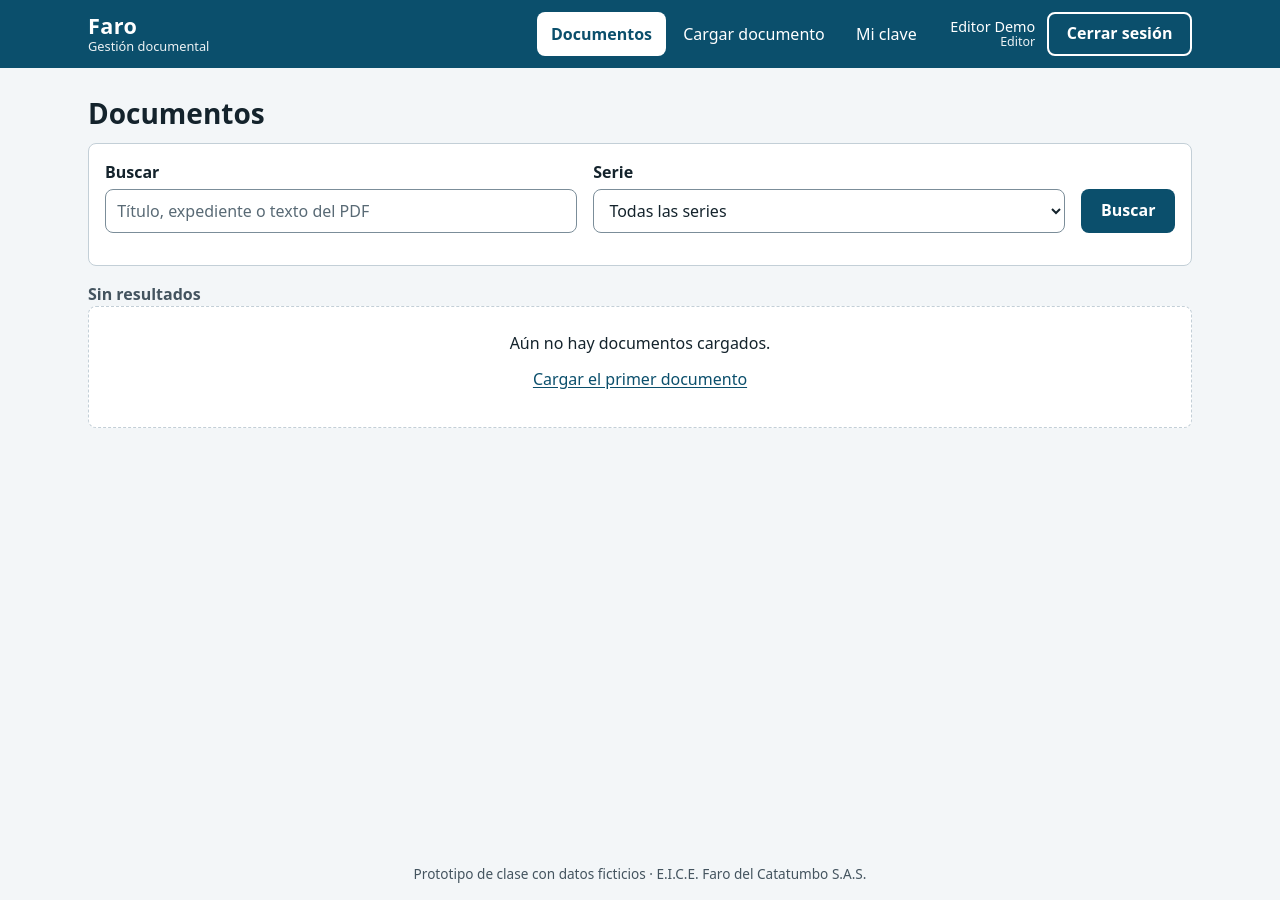
Test case: cambiar mi clave (voluntario) › se abre desde «Mi clave» del menú y explica qué pasa con las demás sesiones
expect the heading "Documentos" is shown: met, box x1=88 y1=94 x2=265 y2=132
Click the link "Mi clave" at x=886, y=34, box x1=856 y1=23 x2=917 y2=45
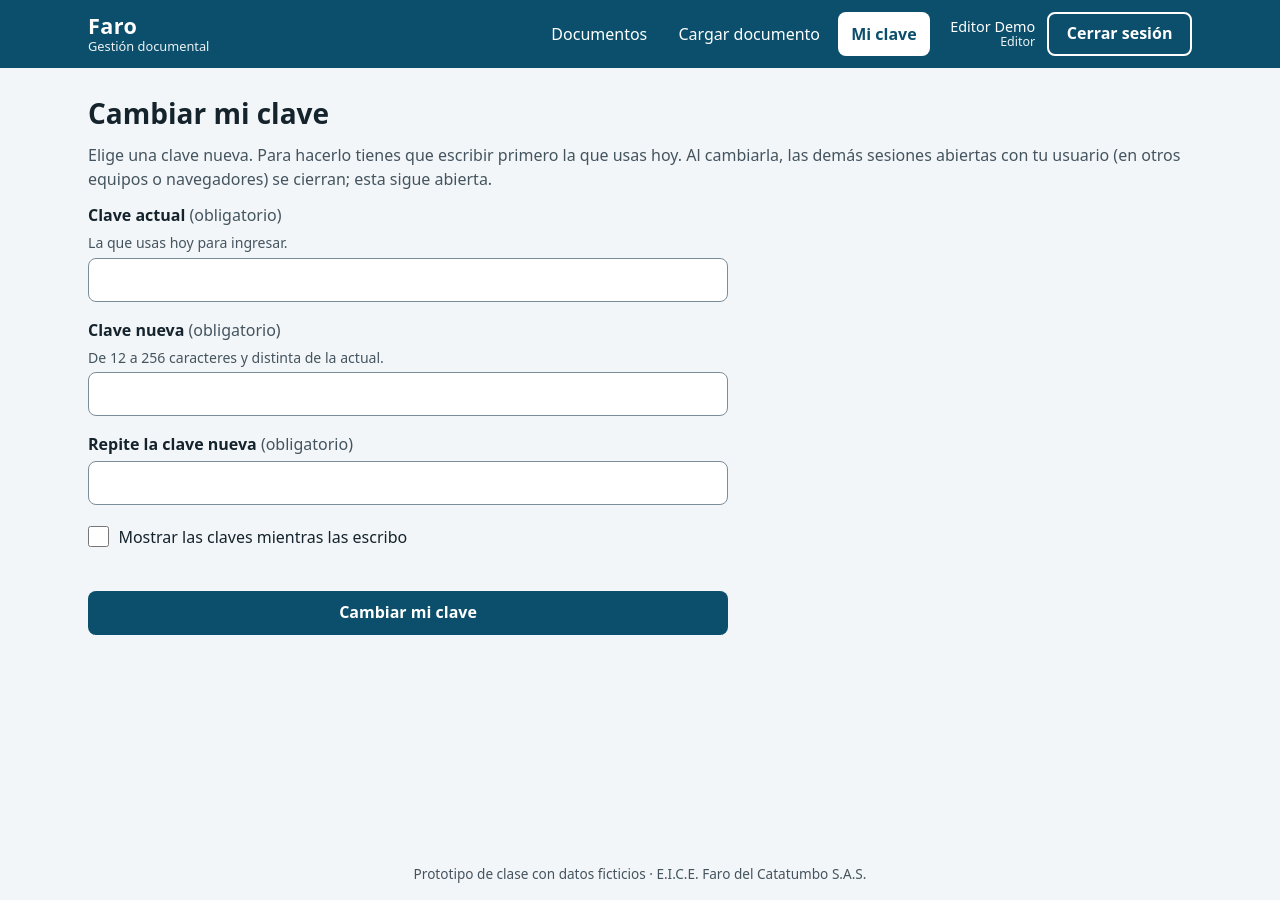
expect the heading "Cambiar mi clave" is shown: met, box x1=88 y1=94 x2=329 y2=132
expect the text "demás sesiones abiertas con tu usuario" is shown: met, box x1=88 y1=144 x2=1180 y2=190
